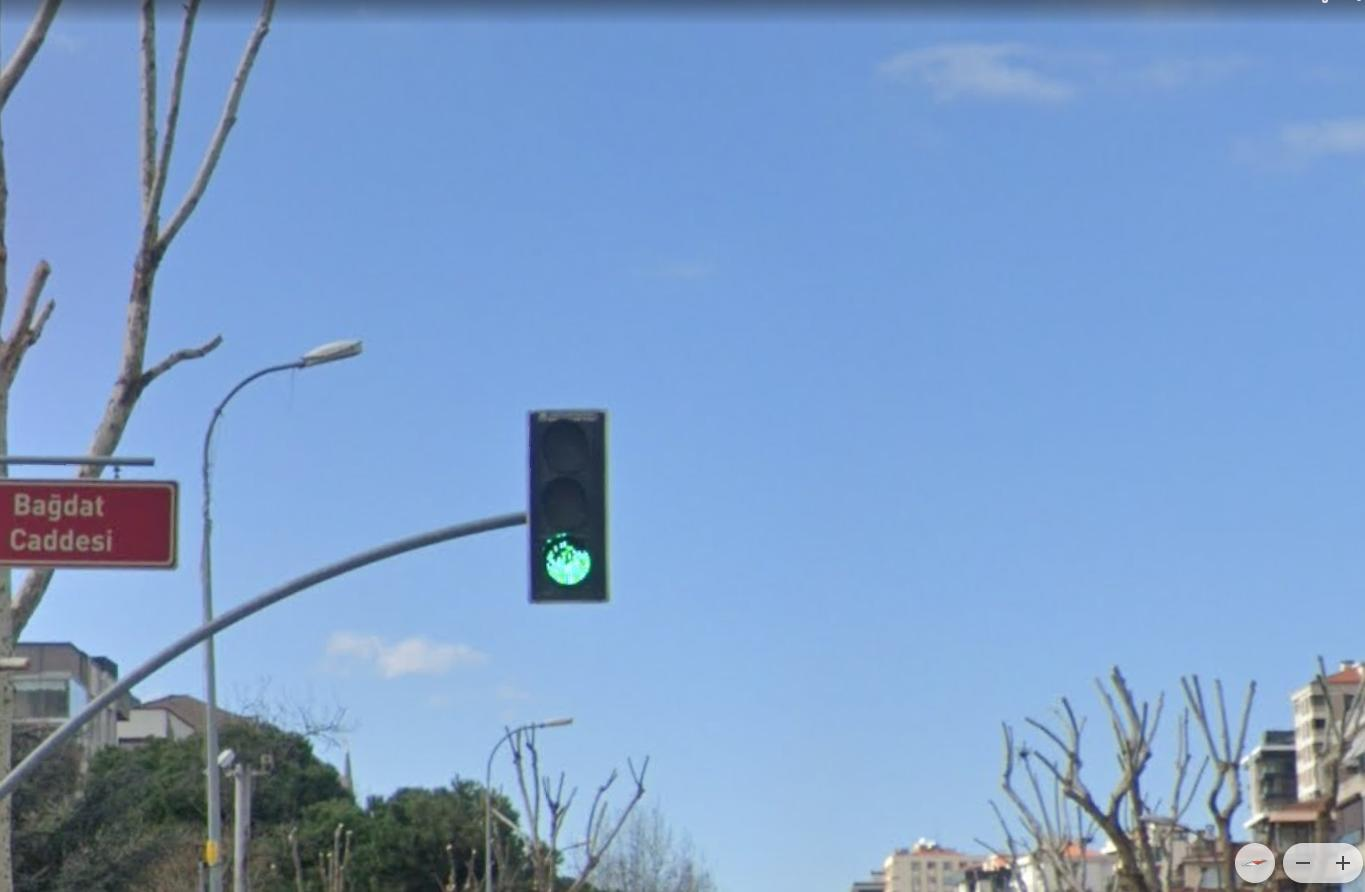greenlight: (525, 406, 602, 596)
